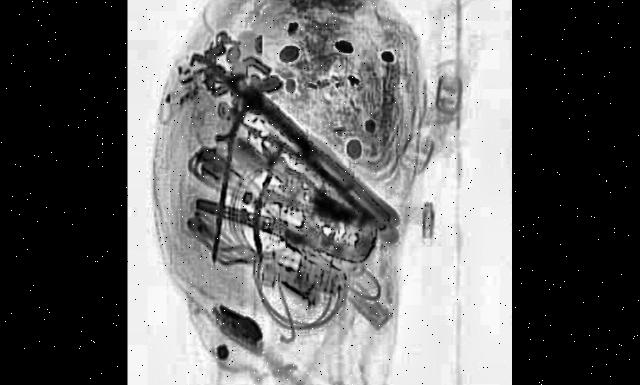Pliers: (194, 116, 382, 291)
